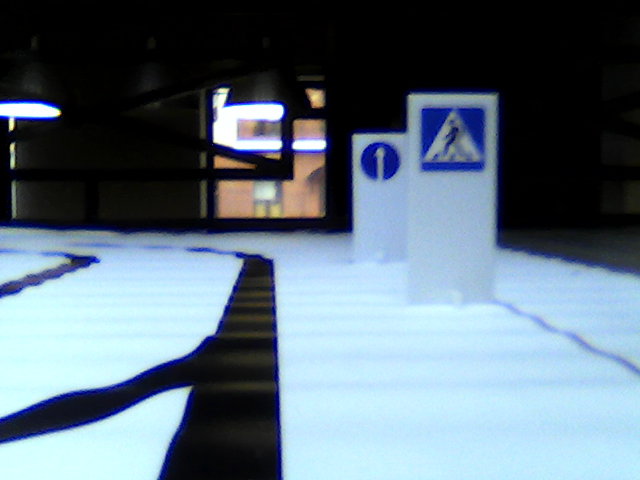forw: (361, 140, 403, 182)
pesh: (420, 112, 480, 173)
